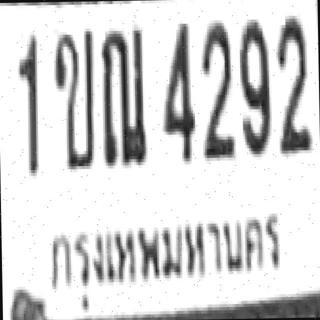A02: (50, 27, 96, 170)
A19: (99, 24, 148, 167)
N01: (15, 30, 38, 174)
N02: (199, 17, 234, 158), (276, 14, 310, 152)
N04: (158, 20, 194, 162)
N09: (237, 16, 270, 154)
P04: (39, 198, 284, 304)
